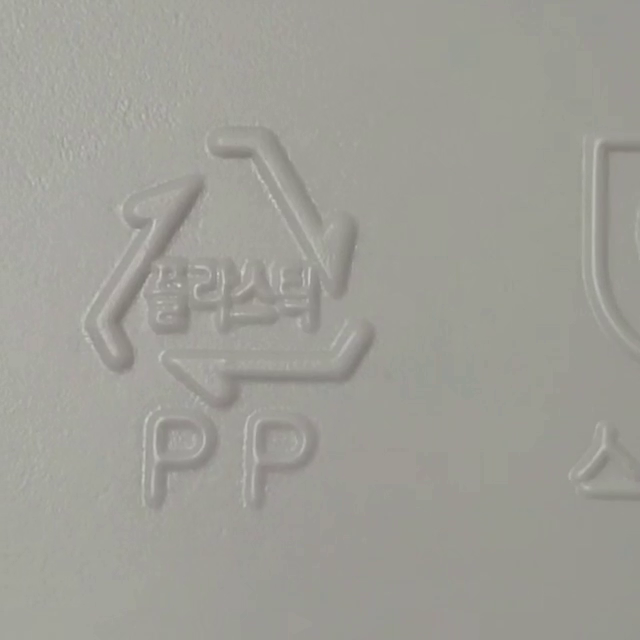Plastic: (85, 124, 381, 408)
